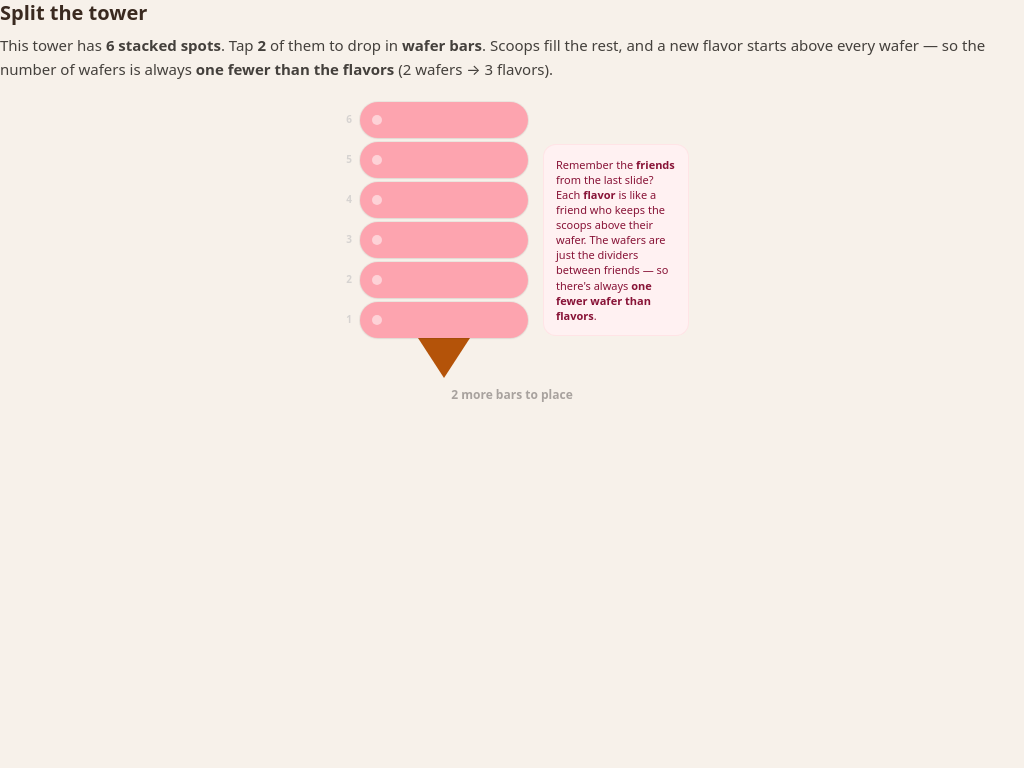
multiset-stars-bars interaction › completes after the split and the combination count
// The scoops/bars question only appears after both bars are placed.
Click the button named "location 2" at point(432, 280), box [336,262,528,298]
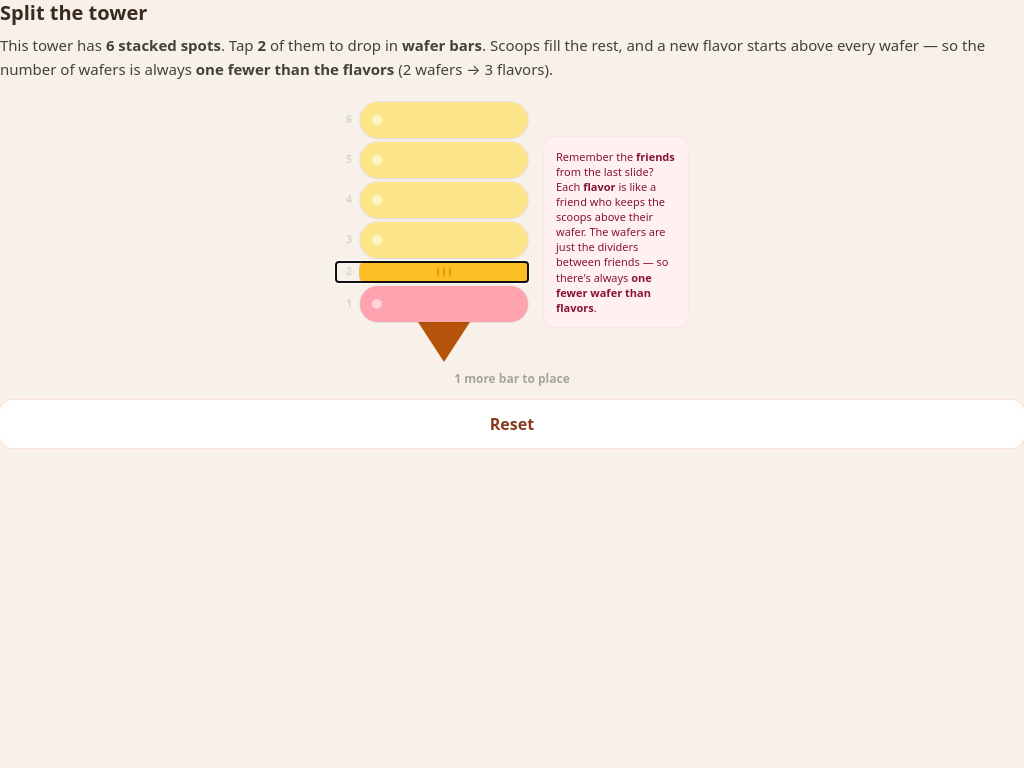
Click the button named "location 5" at point(432, 160), box [336,142,528,178]
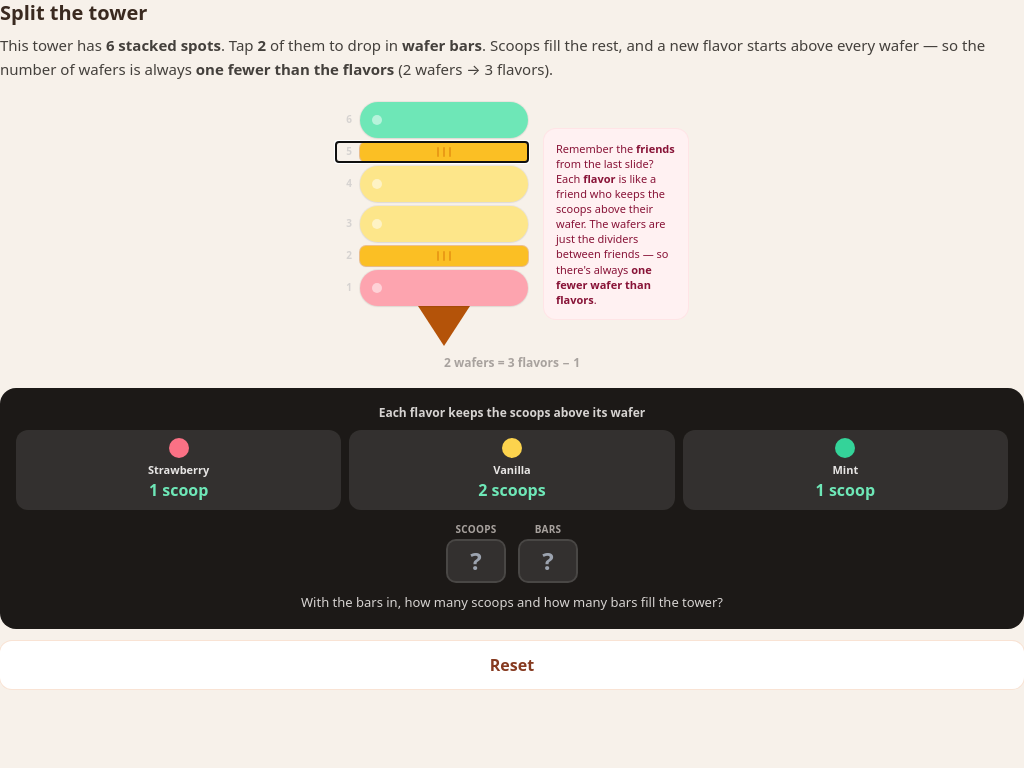
Type "4" into the field named "scoops" at point(476, 561), box [448,541,504,581]
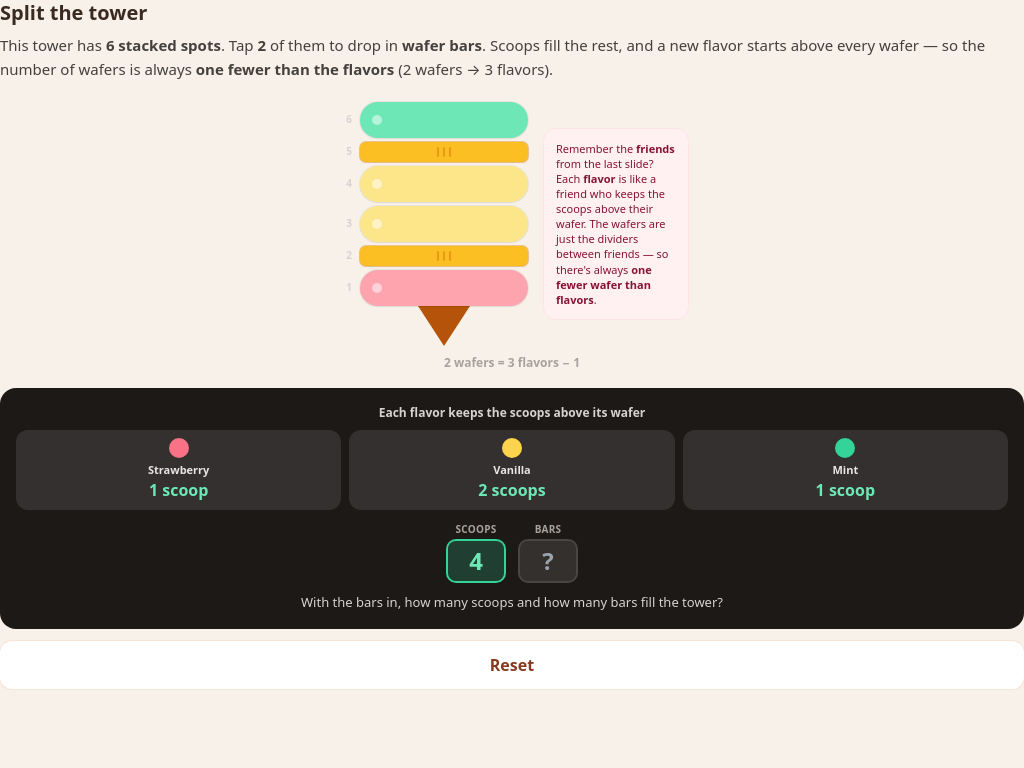
Type "2" into the field named "bars" at point(548, 561), box [520,541,576,581]
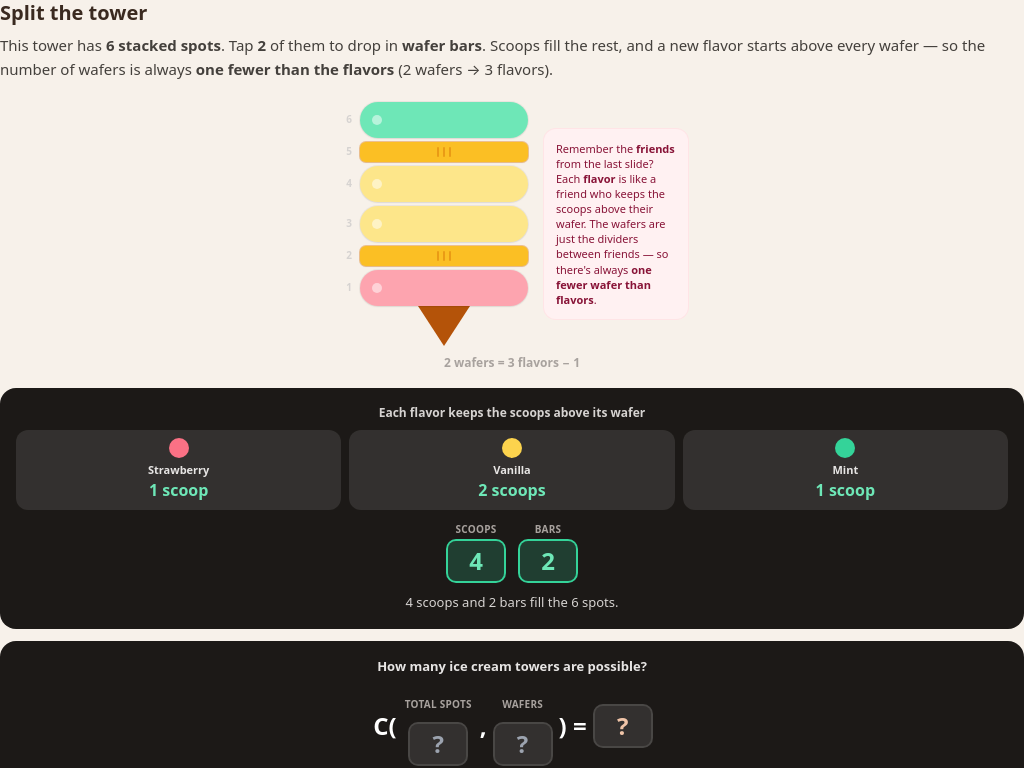
Type "6" into the field named "total spots" at point(438, 744), box [410,724,466,764]
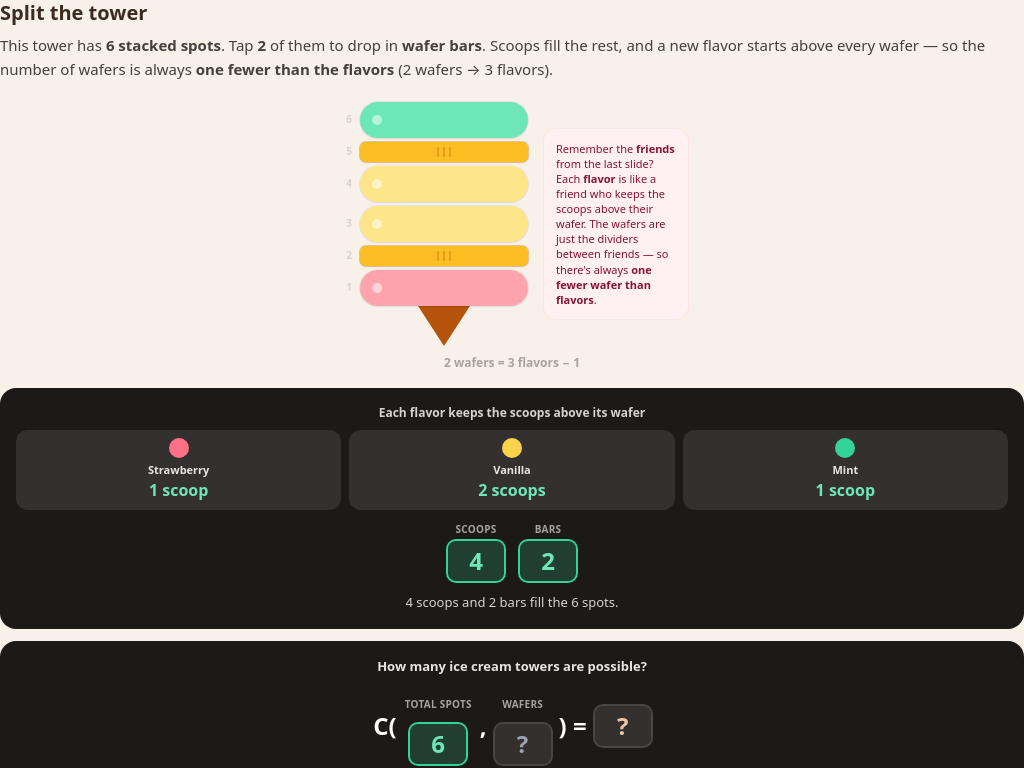
Type "2" into the field named "wafers" at point(523, 744), box [495,724,551,764]
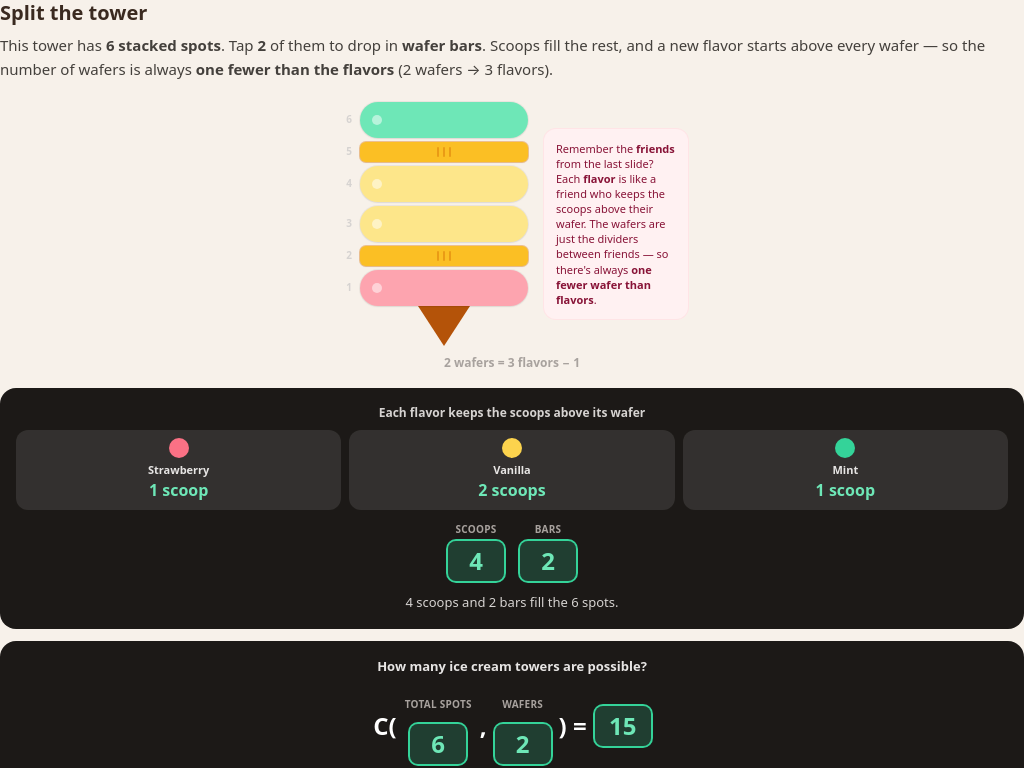
Expected: the text named "towers result" reads "15", [609,709,636,742]
